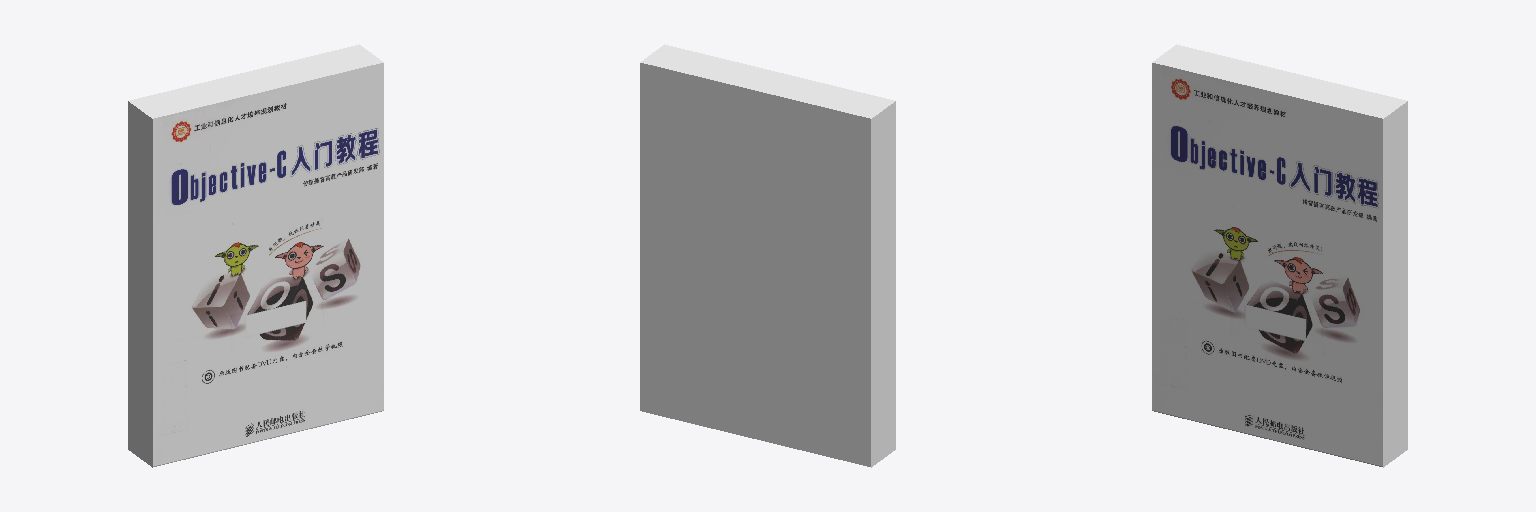
3 views of the same model, side by side, from view 1: azimuth 30°, elevation 25°; view 2: azimuth 150°, elevation 25°; view 3: azimuth 330°, elevation 25° (orthographic).
Visible parts, largest first — view 1: 立方体.037; view 2: 立方体.037; view 3: 立方体.037.
Part boxes in pixels (x1,y1,x2,y2): 立方体.037: (128, 44, 383, 467); 立方体.037: (640, 44, 895, 467); 立方体.037: (1152, 44, 1407, 467).
Bounding box in the file's own units: 0.6418 × 0.9235 × 0.1179.
2 materials, 1 textured.